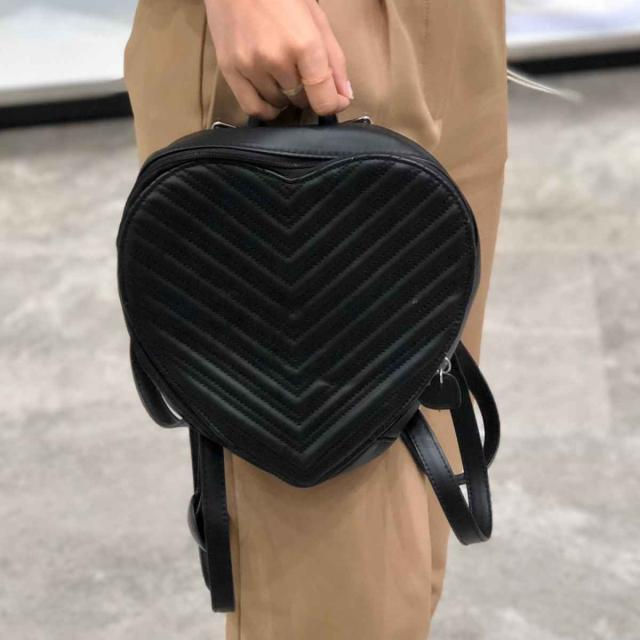handbag: (118, 120, 480, 491)
